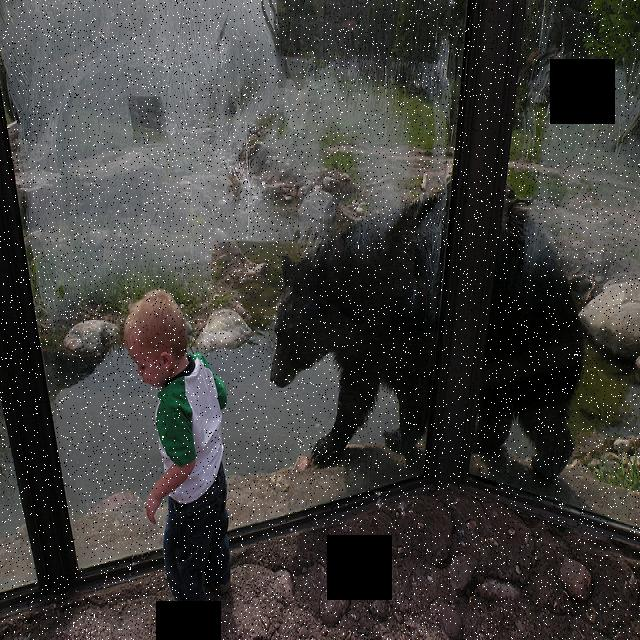Bear: (262, 174, 584, 479)
